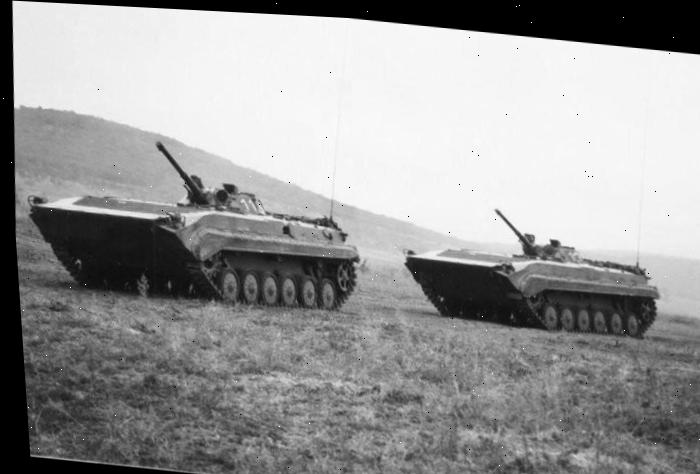tank: (17, 124, 370, 320), (395, 198, 669, 344)
